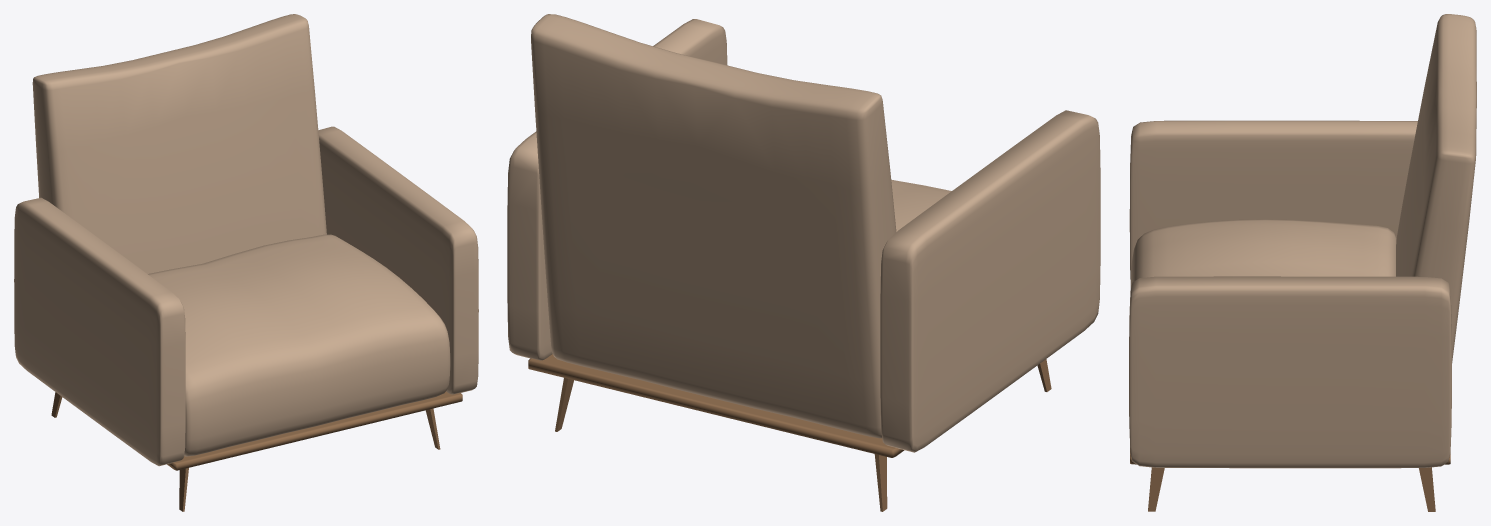
File: ArmChair.glb
The picture shows the model from 3 angles, left to right: view 1: azimuth 30°, elevation 25°; view 2: azimuth 150°, elevation 25°; view 3: azimuth 270°, elevation 25°; orthographic projection. The views are drawn at different scales.
Parts seen in each view (by area): view 1: Arm Chair; view 2: Arm Chair; view 3: Arm Chair.
Part boxes in pixels (x1,y1,x2,y2): Arm Chair: (14,14,478,511); Arm Chair: (507,14,1100,511); Arm Chair: (1129,14,1476,511).
Size of the model in its own units: 1.13 by 1.12 by 0.9773.
1 material, 1 textured.
